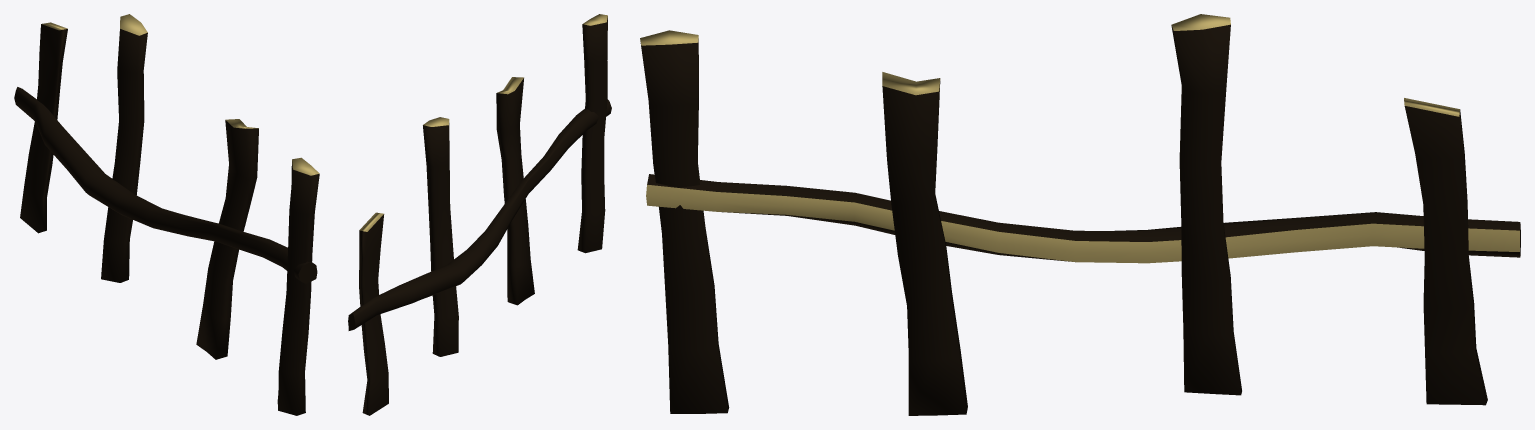
The model's file is fence3.fbx.
3 renders of one model, left to right at view 1: azimuth 30°, elevation 25°; view 2: azimuth 150°, elevation 25°; view 3: azimuth 270°, elevation 25°, orthographic. The views are drawn at different scales.
Visible parts, largest first — view 1: fence3_LOD0; view 2: fence3_LOD0; view 3: fence3_LOD0.
Boxes of the visible parts, <box> form: fence3_LOD0: <box>14,14,319,415</box>; fence3_LOD0: <box>348,14,611,415</box>; fence3_LOD0: <box>640,14,1520,415</box>.
Size of what is drawn, in the model's own units: 68.85 by 279 by 558.
